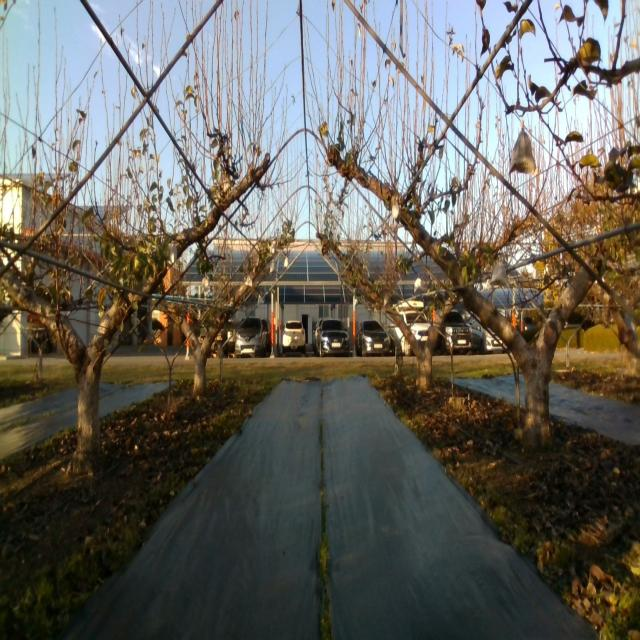pearbags: (510, 130, 536, 174), (490, 262, 508, 288)
